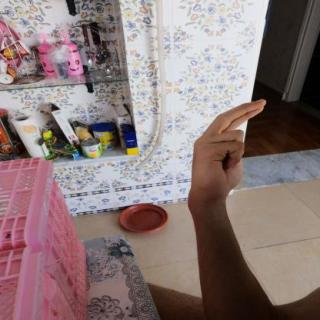ZAY: (183, 93, 274, 208)
